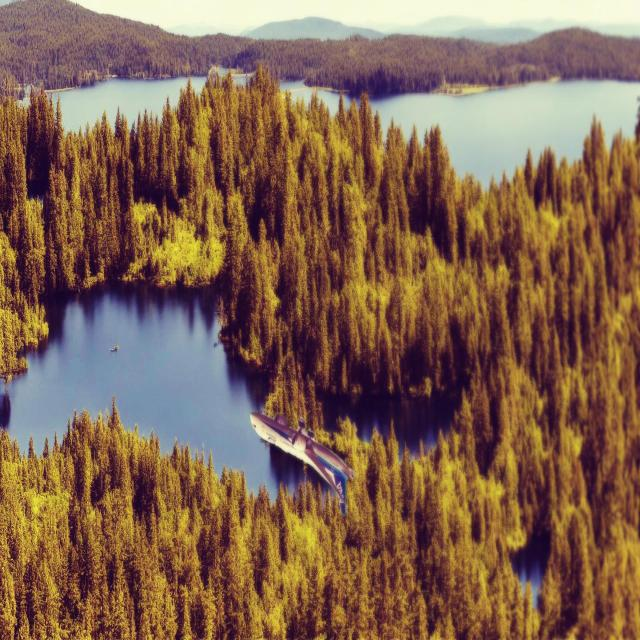airplane: (249, 410, 356, 518)
